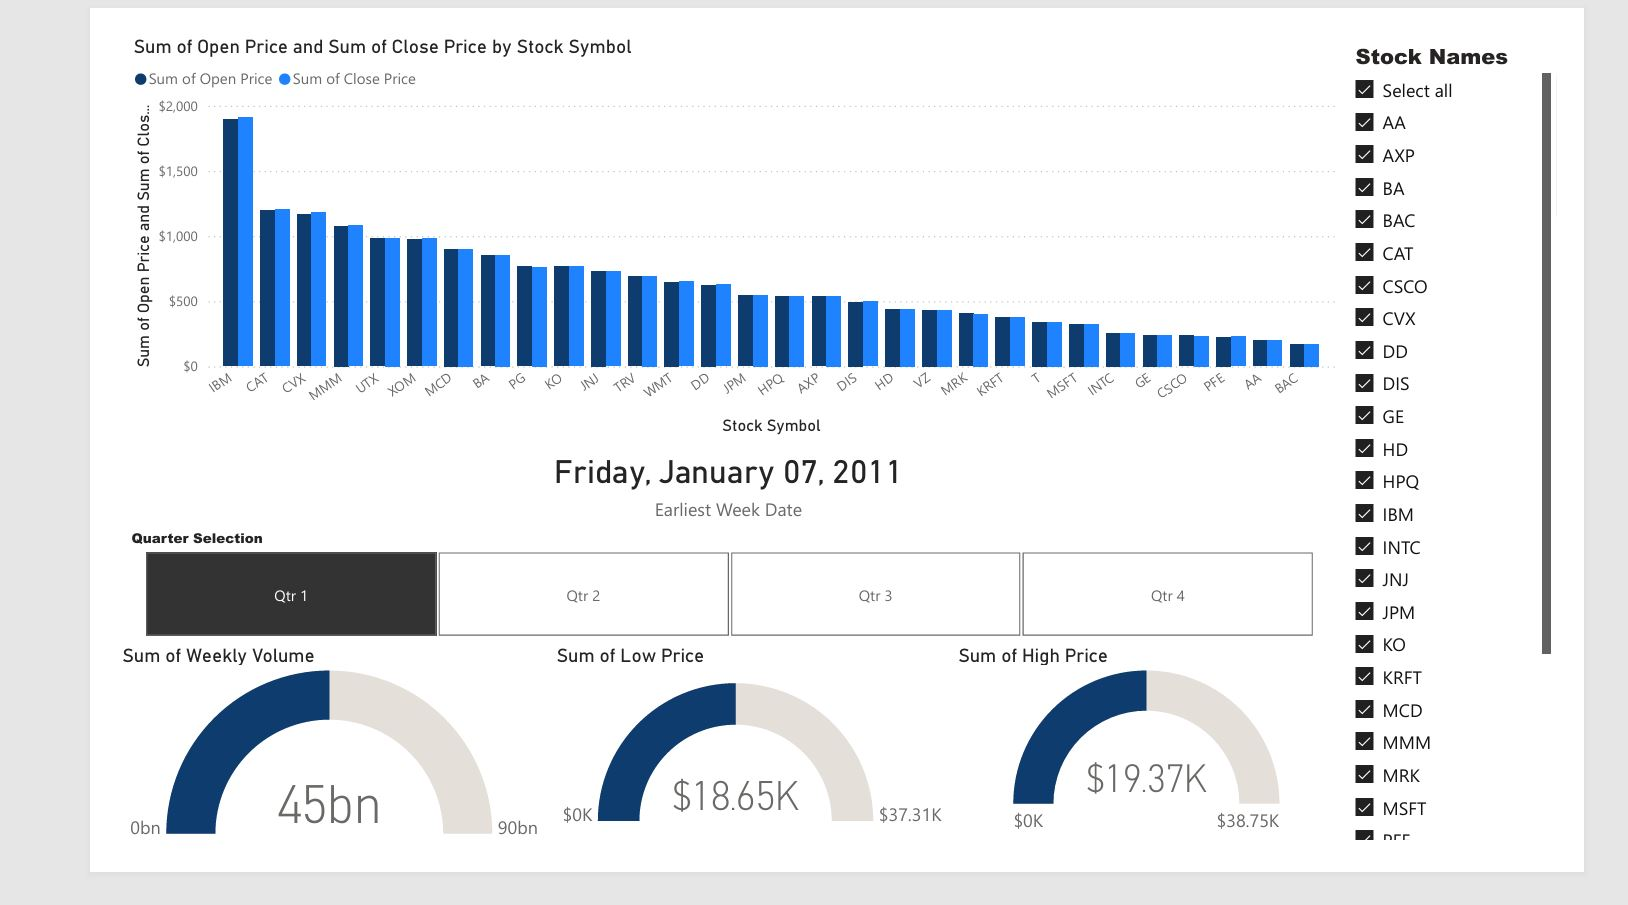

What the dashboard file says about the page in this screenshot:
{"tool":"powerbi","page":{"name":"DASHBOARD","canvas":[1280,720],"ordinal":0},"visuals":[{"type":"slicer","fields":{"Values":["dow_jones_index. stock name "]},"box":[1088,0,192,720],"z":0},{"type":"clusteredColumnChart","title":"Average Close Price by Stock","fields":{"Category":["dow_jones_index.Stock Symbol"],"Y":["Sum(dow_jones_index.Open Price)","Sum(dow_jones_index.Close Price)"]},"box":[0,0,1088,352],"z":1000},{"type":"slicer","fields":{"Values":["dow_jones_index.Week Date.Variation.Date Hierarchy.Quarter"]},"box":[0,432,1088,112],"z":2000},{"type":"card","fields":{"Values":["Min(dow_jones_index.Week Date)"]},"box":[0,352,1088,80],"z":3000},{"type":"gauge","title":"Average Close Price","fields":{"Y":["dow_jones_index.Average Close Price"]},"box":[0,540.7,386,179.1],"z":4000},{"type":"gauge","title":"Low Price","fields":{"Y":["Sum(dow_jones_index.Low Price)"]},"box":[386,540.7,357,179.1],"z":5000},{"type":"gauge","title":"High Price","fields":{"Y":["Sum(dow_jones_index.High Price)"]},"box":[743,540.7,344.2,179.1],"z":6000}]}

Visuals, with their boxes in screenshot pixels (x1, y1, x2, y2), scaled from the page's 1280x720 canvas onto the 1628x905 screenshot:
slicer - dow_jones_index. stock name : <box>1384,0,1627,904</box>
"Average Close Price by Stock" clusteredColumnChart: <box>0,0,1384,442</box>
slicer - dow_jones_index.Week Date.Variation.Date Hierarchy.Quarter: <box>0,543,1384,684</box>
card - Min(dow_jones_index.Week Date): <box>0,442,1384,543</box>
"Average Close Price" gauge: <box>0,680,491,904</box>
"Low Price" gauge: <box>491,680,945,904</box>
"High Price" gauge: <box>945,680,1383,904</box>
